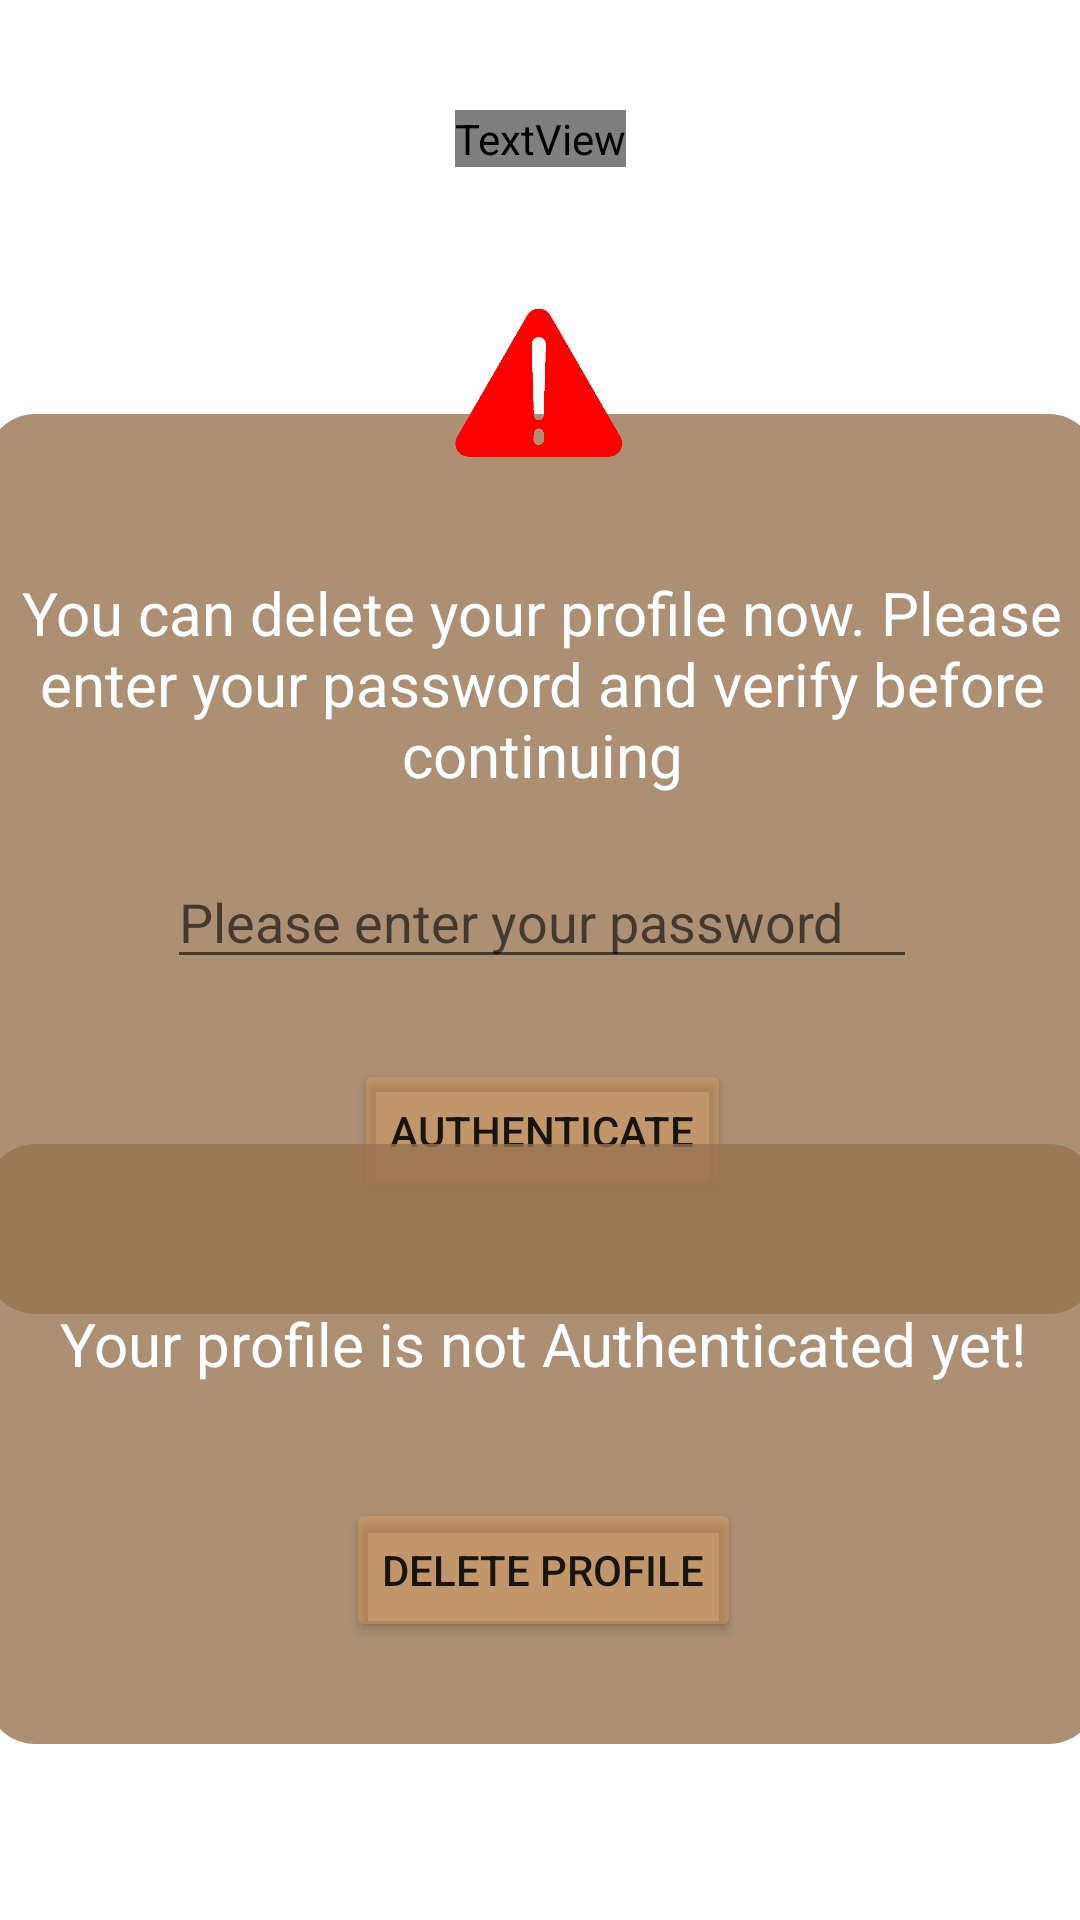

Where to tap for icons on this 1080px×1920px app screen, as point (x, y):
danger: point (538, 383)
